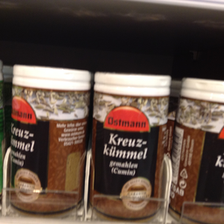spices: (8, 64, 90, 215), (92, 71, 172, 219), (173, 77, 223, 224)
